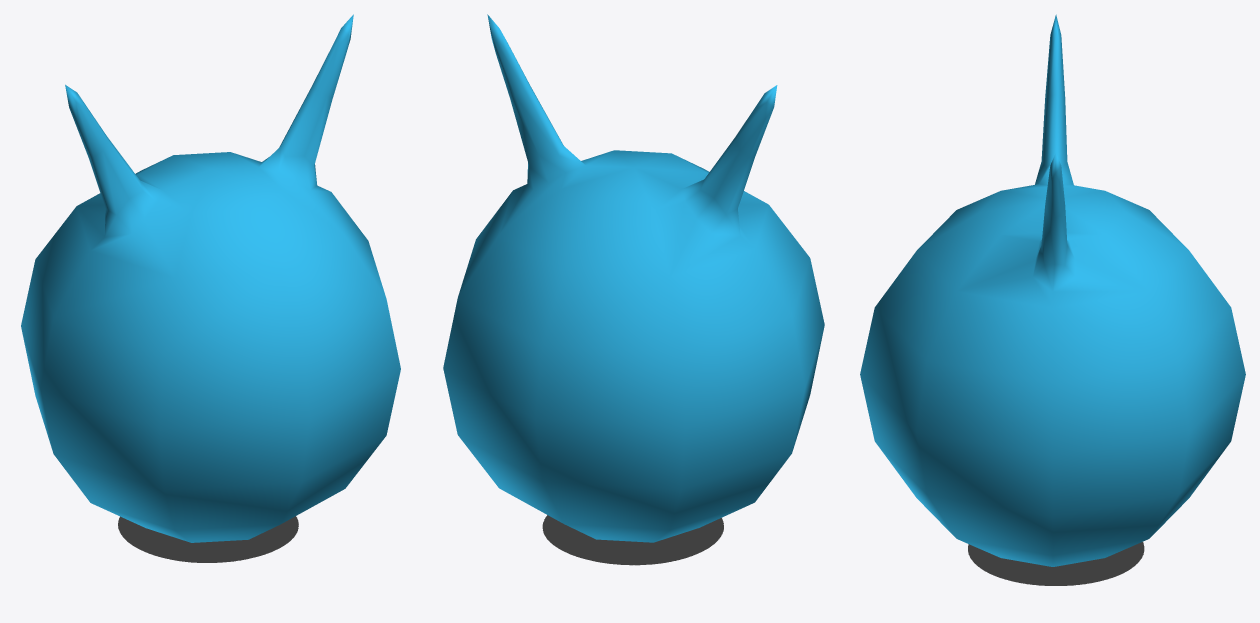
Rendered from horn_ball_01.DAE.
The picture shows the model from 3 angles, left to right: view 1: azimuth 30°, elevation 25°; view 2: azimuth 150°, elevation 25°; view 3: azimuth 270°, elevation 25°; orthographic projection. The views are drawn at different scales.
Parts seen in each view (by area): view 1: horn_ball_01, sd_horn_ball_01; view 2: horn_ball_01, sd_horn_ball_01; view 3: horn_ball_01, sd_horn_ball_01.
Boxes of the visible parts, x1,y1,x2,y2 form: horn_ball_01: [21, 14, 400, 542]; sd_horn_ball_01: [118, 516, 298, 562]; horn_ball_01: [443, 14, 824, 542]; sd_horn_ball_01: [542, 515, 723, 565]; horn_ball_01: [860, 14, 1245, 566]; sd_horn_ball_01: [968, 542, 1144, 585].
Bounding box in the file's own units: 587 × 587 × 782.
2 materials, 2 textured.
